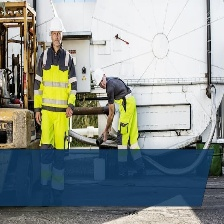helmet: (48, 16, 66, 37), (92, 66, 106, 89)
person: (32, 16, 77, 149), (92, 67, 140, 148)
vest: (37, 48, 73, 120)
